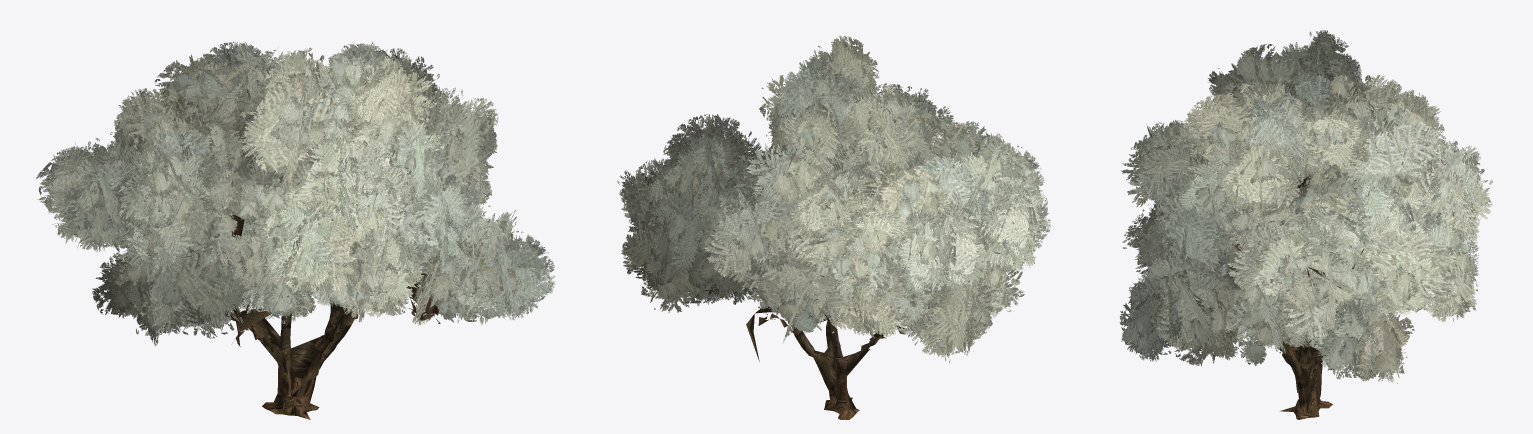
Rendered from arbol_copa_ancha.glb.
3 renders of one model, left to right at view 1: azimuth 30°, elevation 25°; view 2: azimuth 150°, elevation 25°; view 3: azimuth 270°, elevation 25°, orthographic. The views are drawn at different scales.
Visible parts, largest first — view 1: lejos, cerca; view 2: lejos, cerca; view 3: lejos, cerca.
Part boxes in pixels (<box>): lejos: <box>36,41,555,382</box>; cerca: <box>64,52,539,419</box>; lejos: <box>617,35,1050,386</box>; cerca: <box>632,71,1043,419</box>; lejos: <box>1119,30,1492,385</box>; cerca: <box>1128,53,1477,419</box>.
Bounding box in the file's own units: 28.18 × 22.07 × 23.07.
2 materials, 2 textured.
